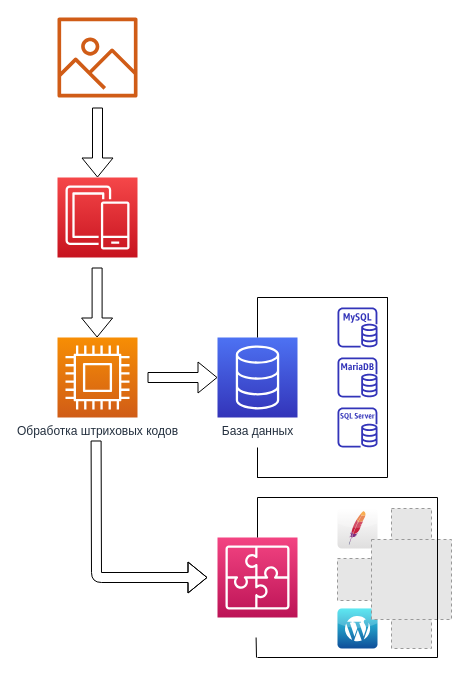
The diagram is 469 pixels wide and 676 high, and some of its shapes have lost their labels. Grey dashed boxes stand in for pictures. Each missing label, with the centre of its shape:
SQLite: the point at 357,427
Интеграции: the point at 257,577
